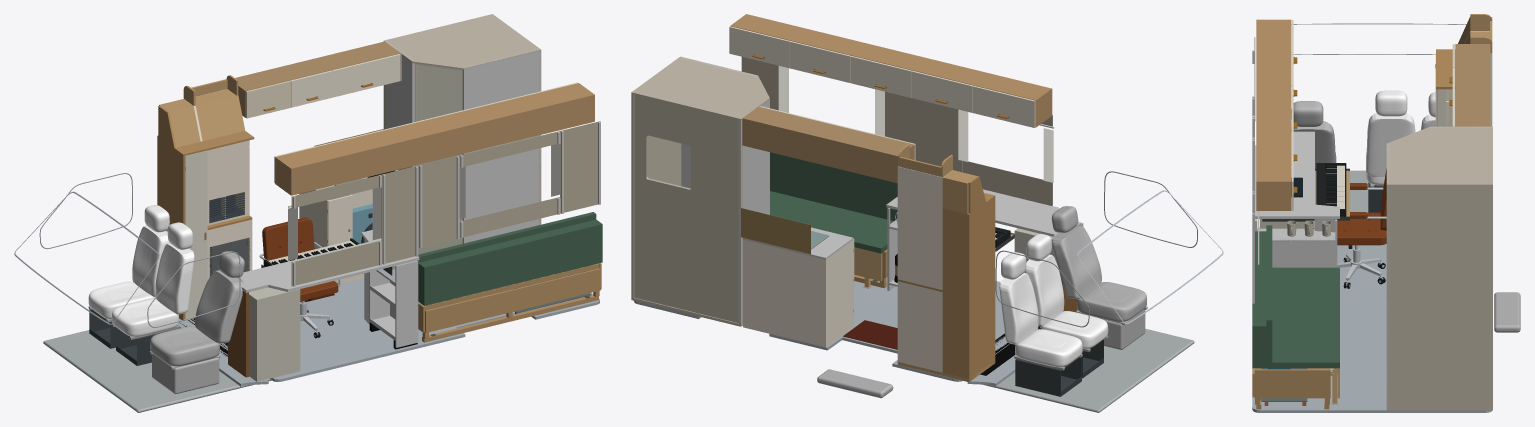
3 renders of one model, left to right at view 1: azimuth 30°, elevation 25°; view 2: azimuth 150°, elevation 25°; view 3: azimuth 270°, elevation 25°, orthographic. The views are drawn at different scales.
Parts seen in each view (by area): view 1: structure (×9), cab (×4), overhead (×2), wet (×2), office (×3), sofa (×2), cabinet (×2), IC_DoorLeaf, BD_Screen, OH_K01_Door, SB_Infill, CC_Back (+4 smaller); view 2: structure (×7), wet (×2), cab (×4), overhead (×2), cabinet (×2), SB_Infill, sofa, office, OH_L01_Door, OH_L03_Door, OH_L02_Door, OH_L04_Door (+2 smaller); view 3: wet (×2), sofa (×2), cab (×3), overhead (×2), structure (×4), office (×3), cabinet (×2), CC_Seat, SB_Infill, KT_MidiBody, CC_StarBase, KT_BlackKeys (+4 smaller).
Part boxes in pixels (x1,y1,x2,y2): structure (×9): (112,89,600,394); cab (×4): (14,173,599,412); overhead (×2): (235,41,594,195); wet (×2): (313,14,541,243); office (×3): (228,230,419,381); sofa (×2): (418,219,602,342); cabinet (×2): (157,75,254,320); IC_DoorLeaf: (185,150,207,320); BD_Screen: (416,65,462,254); OH_K01_Door: (332,54,400,97); SB_Infill: (417,212,596,262); CC_Back: (262,217,314,260); structure (×7): (741,57,1147,398); wet (×2): (631,56,853,326); cab (×4): (634,171,1223,412); overhead (×2): (730,14,1052,183); cabinet (×2): (897,144,995,382); SB_Infill: (770,152,897,220); sofa: (770,191,893,253); office: (886,189,1081,290); OH_L01_Door: (973,85,1035,127); OH_L03_Door: (850,56,912,97); OH_L02_Door: (911,71,973,112); OH_L04_Door: (789,41,850,82); wet (×2): (1386,126,1492,410); sofa (×2): (1252,231,1339,409); cab (×3): (1252,23,1492,412); overhead (×2): (1256,19,1490,210); structure (×4): (1252,31,1520,332); office (×3): (1255,131,1339,267); cabinet (×2): (1436,14,1492,126); CC_Seat: (1337,212,1386,245); SB_Infill: (1266,225,1272,362); KT_MidiBody: (1316,163,1346,216); CC_StarBase: (1337,254,1381,280); KT_BlackKeys: (1326,165,1336,206).
Size of the model in its own units: 4.92 by 2.29 by 2.14.
